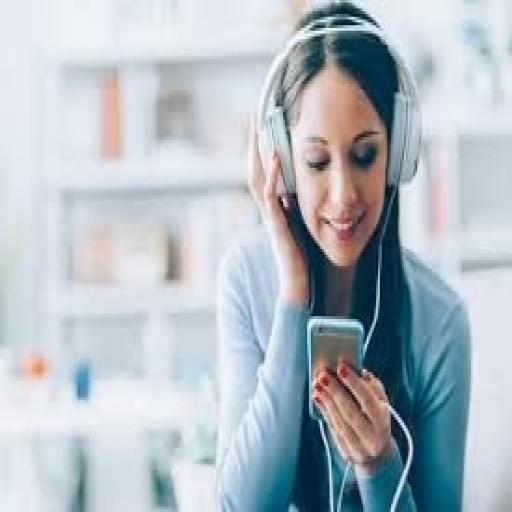listening_to_music: (212, 0, 477, 509)
